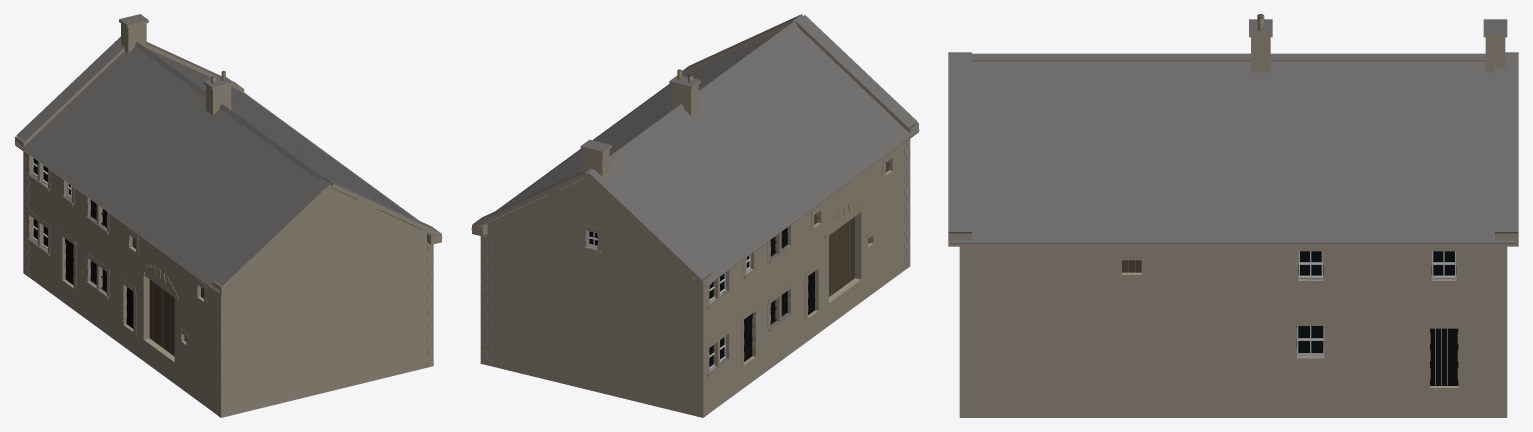
The model's file is context.dales.house_26.glb.
The picture shows the model from 3 angles, left to right: view 1: azimuth 30°, elevation 25°; view 2: azimuth 150°, elevation 25°; view 3: azimuth 270°, elevation 25°; orthographic projection. The views are drawn at different scales.
Visible parts, largest first — view 1: main__stone_a98, main__slate_666, main__paint_543, main__rubber, main__paint_544, main__glass_dark; view 2: main__stone_a98, main__slate_666, main__paint_543, main__glass_dark, main__rubber, main__paint_544; view 3: main__slate_666, main__stone_a98, main__glass_dark, main__rubber, main__paint_ccc.
Boxes of the visible parts, box(x1,y1,x2,y2) form: main__stone_a98: box(15, 19, 441, 417); main__slate_666: box(14, 14, 441, 411); main__paint_543: box(135, 239, 186, 356); main__rubber: box(65, 200, 133, 328); main__paint_544: box(151, 281, 202, 353); main__glass_dark: box(33, 158, 106, 290); main__stone_a98: box(471, 20, 918, 417); main__slate_666: box(472, 14, 919, 411); main__paint_543: box(814, 215, 854, 296); main__glass_dark: box(589, 229, 785, 366); main__rubber: box(744, 227, 814, 361); main__paint_544: box(831, 220, 850, 295); main__slate_666: box(948, 14, 1518, 391); main__stone_a98: box(948, 16, 1518, 417); main__glass_dark: box(1296, 251, 1456, 353); main__rubber: box(1430, 328, 1458, 385); main__paint_ccc: box(1297, 251, 1456, 356).
Size of the model in its own units: 10.92 by 11.12 by 17.35.
